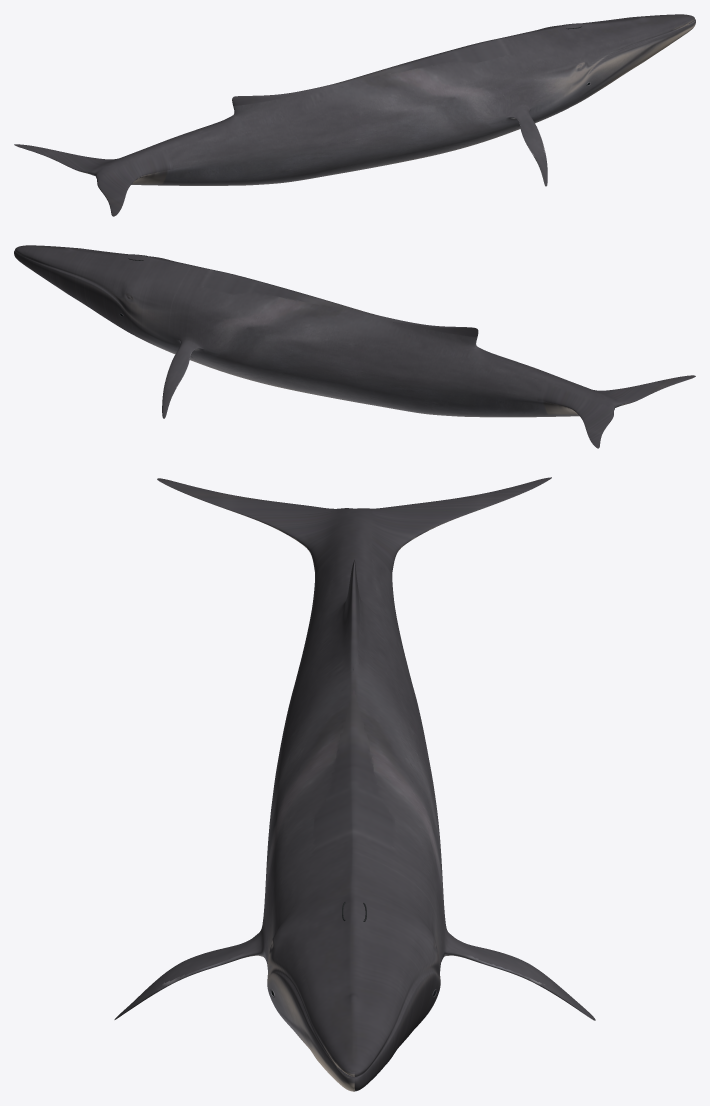
Rendered from model-cetacean-balaenoptera-omurai-v0678.glb.
3 views of the same model, one above another, from view 1: azimuth 30°, elevation 25°; view 2: azimuth 150°, elevation 25°; view 3: azimuth 270°, elevation 25° (orthographic). The views are drawn at different scales.
Parts seen in each view (by area): view 1: balaenoptera-omurai licensed source body; view 2: balaenoptera-omurai licensed source body; view 3: balaenoptera-omurai licensed source body.
Boxes of the visible parts, x1,y1,x2,y2 form: balaenoptera-omurai licensed source body: [14, 14, 695, 216]; balaenoptera-omurai licensed source body: [14, 245, 695, 448]; balaenoptera-omurai licensed source body: [114, 477, 595, 1091].
Bounding box in the file's own units: 3.85 × 0.6271 × 1.27.
Materials: 3 (1 with a texture image).
